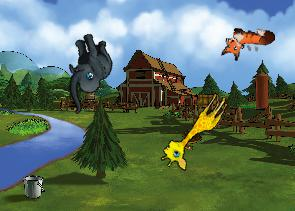elephant: (48, 28, 126, 114)
fox: (220, 24, 275, 64)
giraffe: (156, 84, 232, 175)
